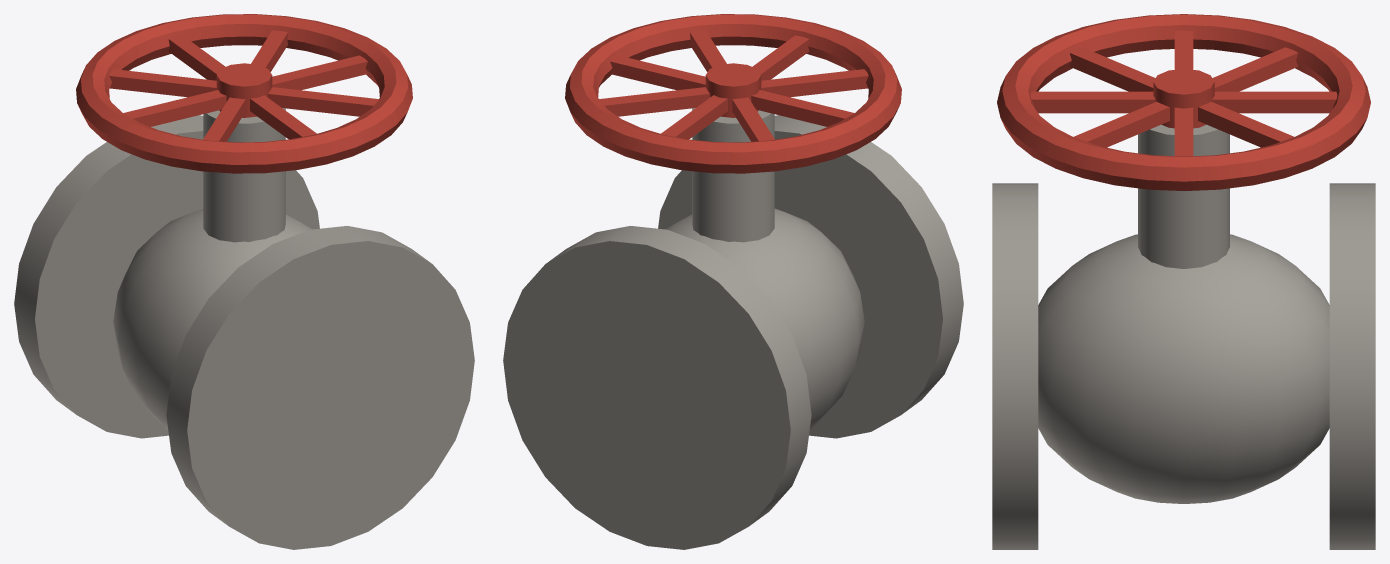
Rendered from pipe_valve.glb.
The picture shows the model from 3 angles, left to right: view 1: azimuth 30°, elevation 25°; view 2: azimuth 150°, elevation 25°; view 3: azimuth 270°, elevation 25°; orthographic projection. The views are drawn at different scales.
Visible parts, largest first — view 1: Valve; view 2: Valve; view 3: Valve.
Boxes of the visible parts, x1=… form: Valve: x1=14, y1=14, x2=474, y2=549; Valve: x1=503, y1=14, x2=963, y2=549; Valve: x1=992, y1=14, x2=1375, y2=549.
Bounding box in the file's own units: 0.244 × 0.325 × 0.25.
